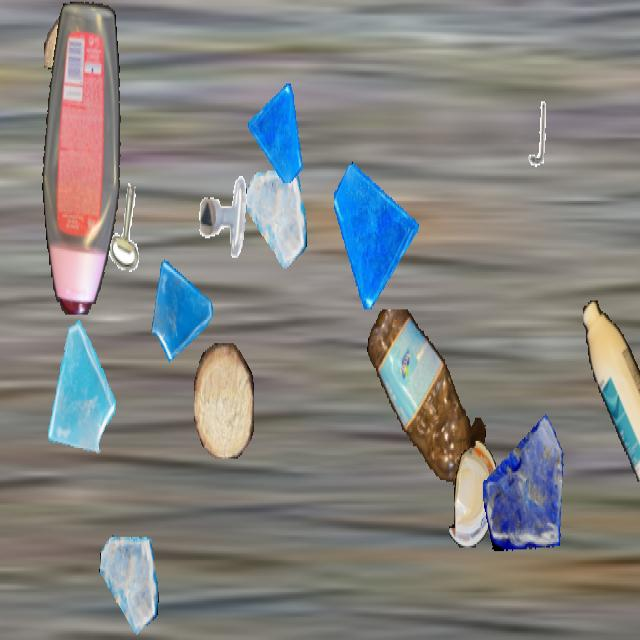glass: (483, 404, 569, 556), (334, 158, 418, 308), (37, 318, 117, 461), (149, 249, 215, 366), (246, 165, 306, 272), (99, 532, 159, 638), (248, 82, 304, 181)
metal: (101, 178, 157, 277), (198, 172, 250, 265), (516, 98, 556, 169)
plastic: (41, 2, 125, 314), (364, 310, 488, 483), (583, 300, 640, 486), (449, 441, 499, 547)
wood: (194, 343, 254, 457), (44, 16, 118, 73)
